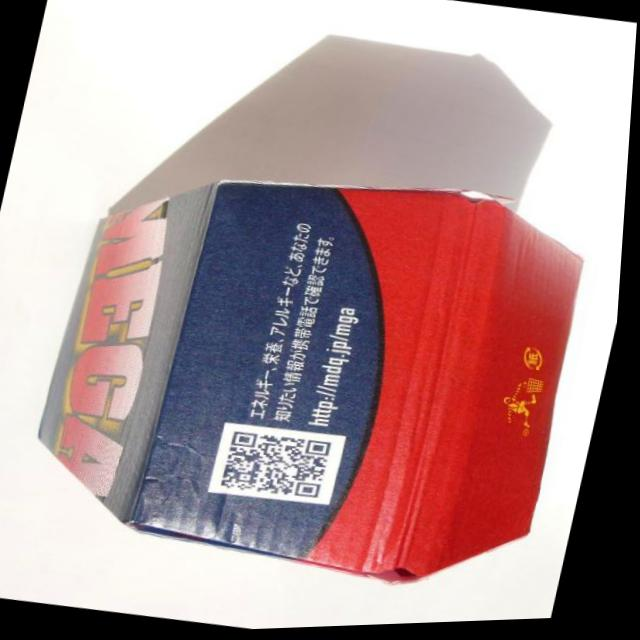qrcode: (228, 431, 338, 505)
